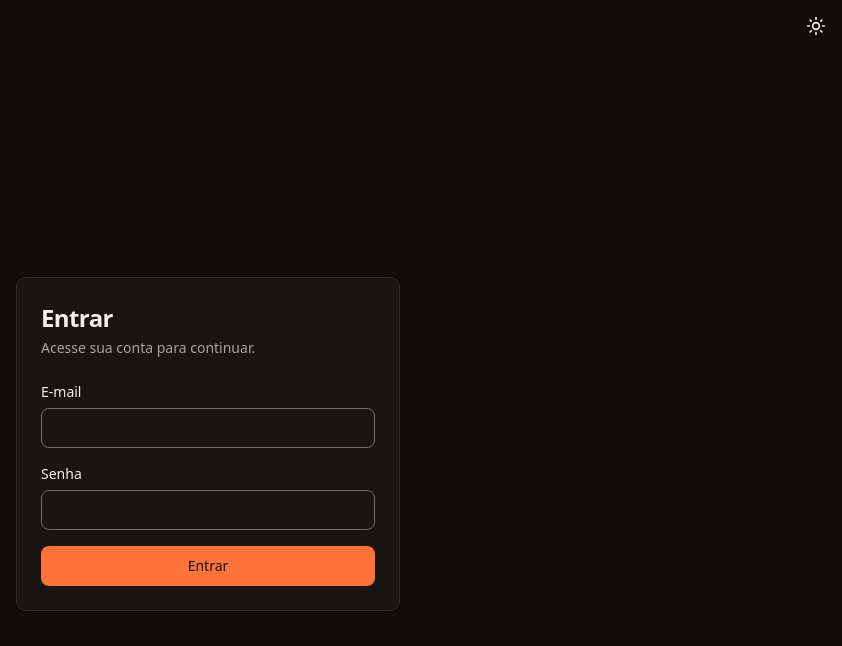
Test case: login e proteção de rotas › login com 401 mostra o detail da API e permanece no login
The image size is (842, 646).
Type "usuario@exemplo.test" into the field labelled "E-mail". click: (208, 428)
box: x1=41 y1=408 x2=375 y2=448
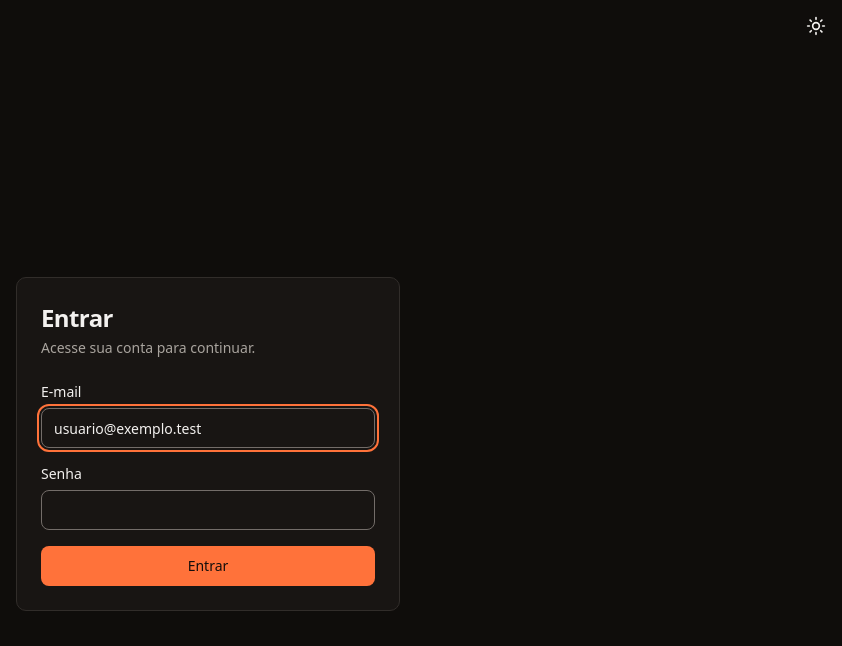
Type "errada" into the password field labelled "Senha". click: (208, 510)
box: x1=41 y1=490 x2=375 y2=530
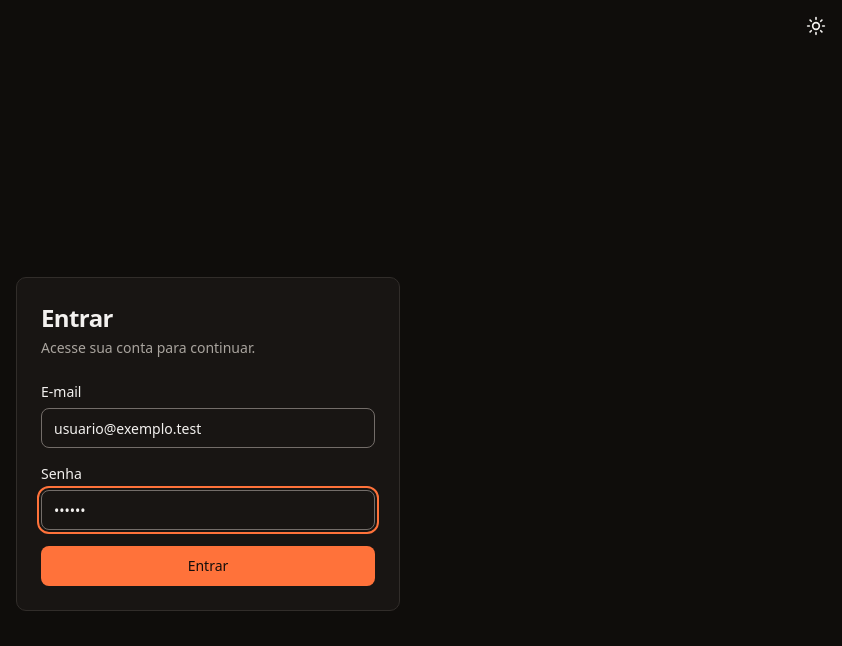
Click the button "Entrar". click: (208, 566)
box: x1=41 y1=546 x2=375 y2=586
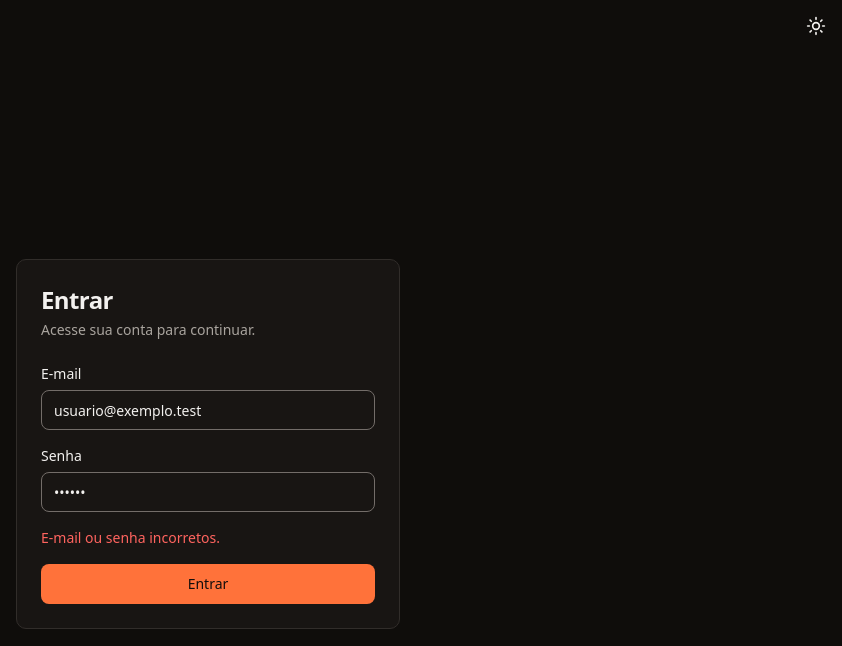
Expected: the message reads "E-mail ou senha incorretos.", x1=41 y1=528 x2=220 y2=547
